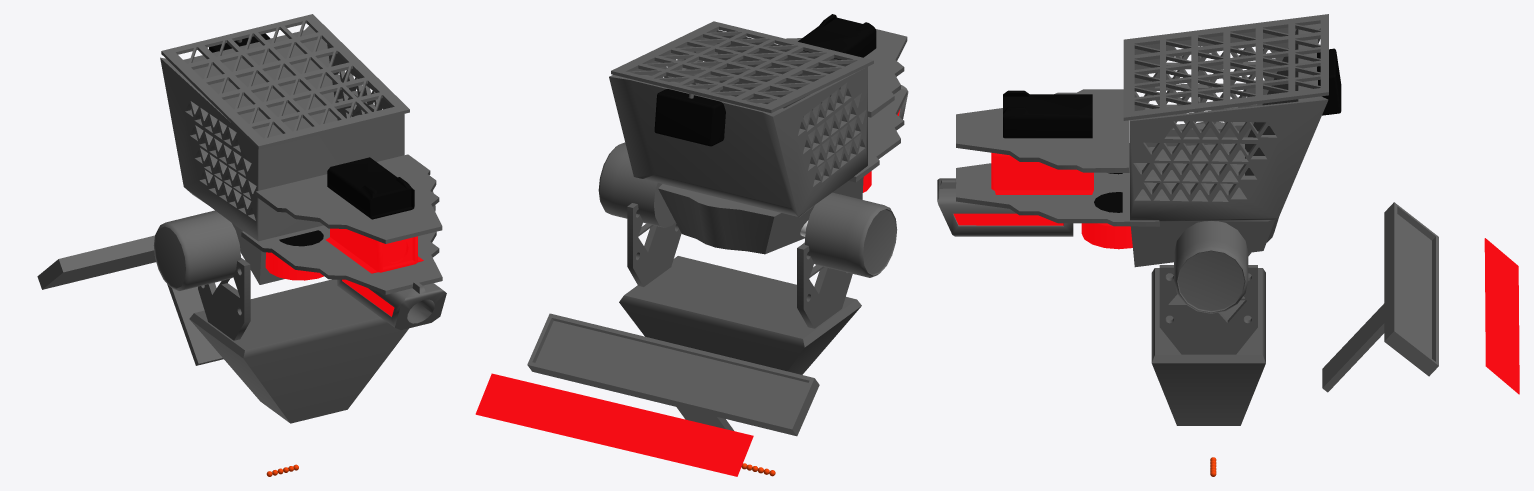
File: 4wheel_head.glb
The picture shows the model from 3 angles, left to right: view 1: azimuth 30°, elevation 25°; view 2: azimuth 150°, elevation 25°; view 3: azimuth 270°, elevation 25°; orthographic projection. The views are drawn at different scales.
Visible parts, largest first — view 1: Pitch轴, Yaw轴, 弹舱盖, 右电机, 灯条, 图传相机, 测速模块, 视觉相机, 右摩擦轮, 右, 右摩擦电机; view 2: Pitch轴, Yaw轴, 灯条, 弹舱盖, 灯-增益, 右电机, 左电机, 舵机, 图传相机; view 3: Pitch轴, 弹舱盖, Yaw轴, 灯条, 左电机, 灯-增益, 图传相机, 视觉相机, 测速模块, 左, 左摩擦轮, 舵机.
Boxes of the visible parts, left/top/right/bottom form: Pitch轴: left=160, top=26, right=442, bottom=294; Yaw轴: left=189, top=258, right=408, bottom=423; 弹舱盖: left=161, top=14, right=409, bottom=149; 右电机: left=153, top=210, right=240, bottom=290; 灯条: left=37, top=235, right=223, bottom=365; 图传相机: left=327, top=157, right=414, bottom=219; 测速模块: left=337, top=279, right=446, bottom=330; 视觉相机: left=326, top=228, right=423, bottom=273; 右摩擦轮: left=265, top=252, right=323, bottom=280; 右: left=342, top=279, right=394, bottom=316; 右摩擦电机: left=279, top=230, right=323, bottom=246; Pitch轴: left=609, top=29, right=907, bottom=254; Yaw轴: left=619, top=203, right=861, bottom=374; 灯条: left=527, top=313, right=819, bottom=436; 弹舱盖: left=611, top=21, right=873, bottom=113; 灯-增益: left=475, top=373, right=753, bottom=476; 右电机: left=804, top=192, right=897, bottom=277; 左电机: left=598, top=142, right=675, bottom=227; 舵机: left=654, top=89, right=725, bottom=146; 图传相机: left=798, top=14, right=876, bottom=59; Pitch轴: left=956, top=23, right=1328, bottom=267; 弹舱盖: left=1123, top=14, right=1328, bottom=120; Yaw轴: left=1151, top=252, right=1265, bottom=425; 灯条: left=1322, top=202, right=1438, bottom=392; 左电机: left=1174, top=221, right=1248, bottom=313; 灯-增益: left=1485, top=238, right=1519, bottom=393; 图传相机: left=1003, top=90, right=1092, bottom=138; 视觉相机: left=991, top=152, right=1093, bottom=194; 测速模块: left=937, top=178, right=1073, bottom=236; 左: left=953, top=213, right=1063, bottom=225; 左摩擦轮: left=1081, top=223, right=1132, bottom=249; 舵机: left=1317, top=48, right=1341, bottom=115.
Bounding box in the file's own units: 0.27 × 0.3749 × 0.4696.
